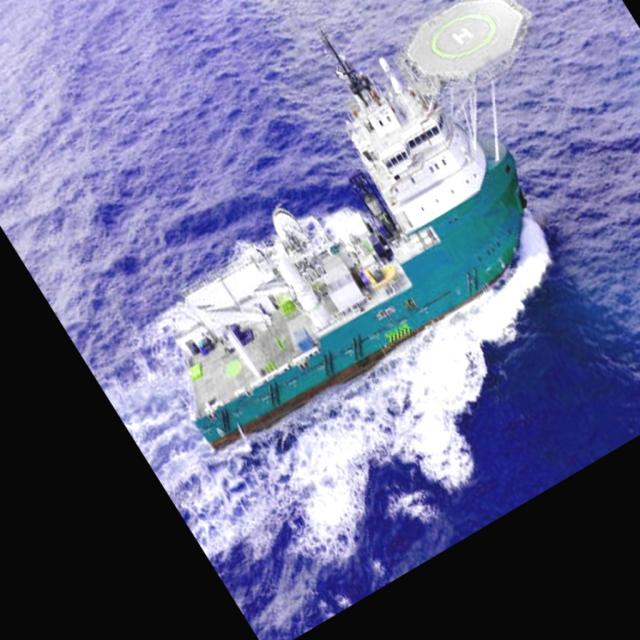helipad: (427, 10, 498, 60)
